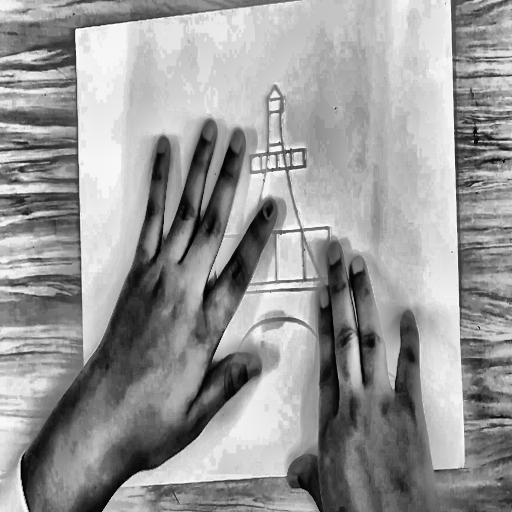bottom_left: (82, 475, 92, 493)
bottom_right: (460, 460, 468, 473)
eiffel-tower: (155, 57, 406, 414)
top_left: (71, 23, 81, 38)
